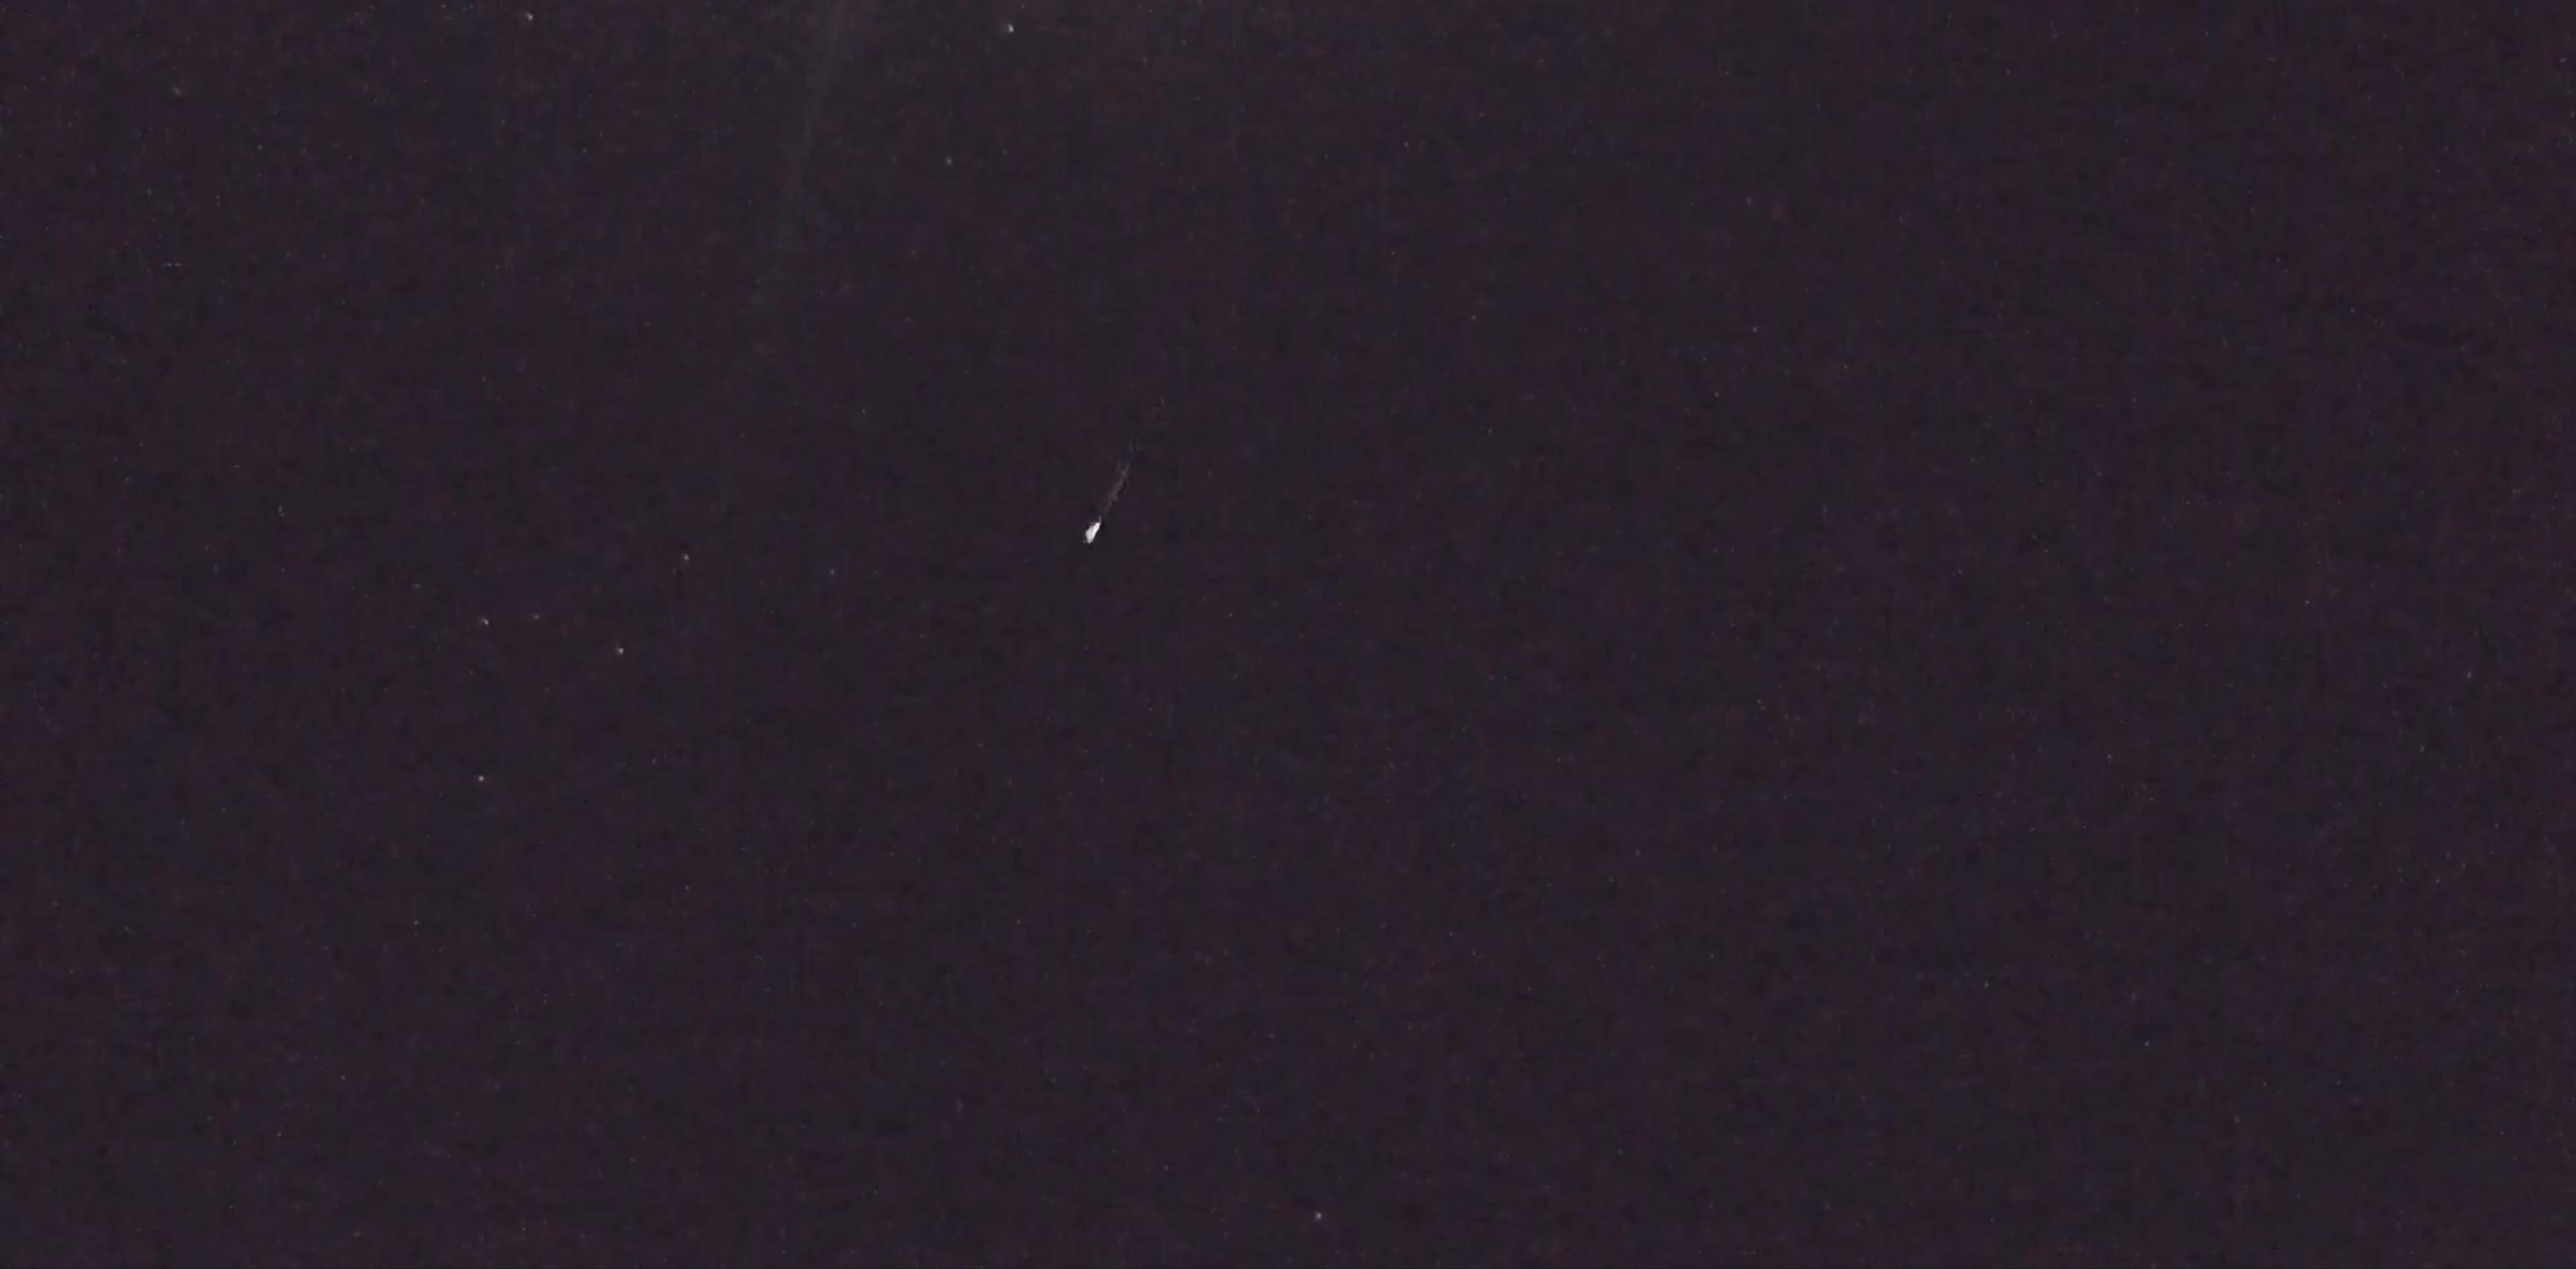meteorite: (1027, 440, 1191, 560)
